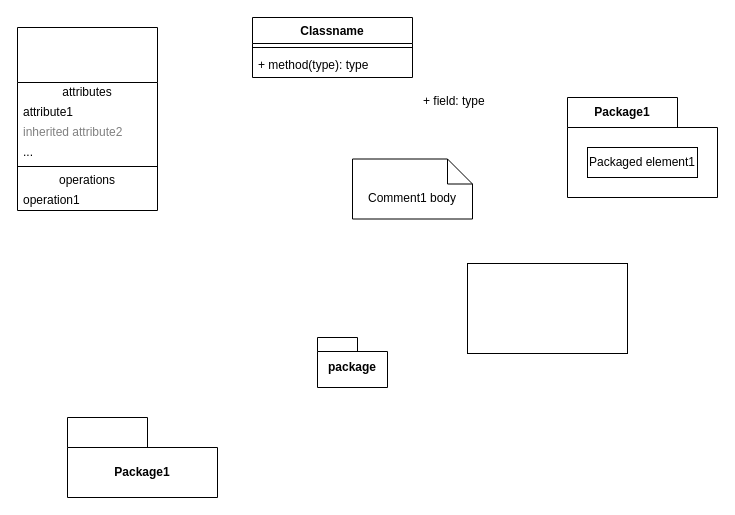
Image size: 735x515. Some labels were removed from this diagram. Here are the shapes that lost their labels. From the top down, the box of each, then its label:
(16, 26, 158, 210): <<keyword>> Classifier1 {abstract}
(466, 262, 628, 354): Class + field: Type + method(): Type
